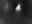person: (4, 3, 10, 13), (17, 5, 21, 16)
